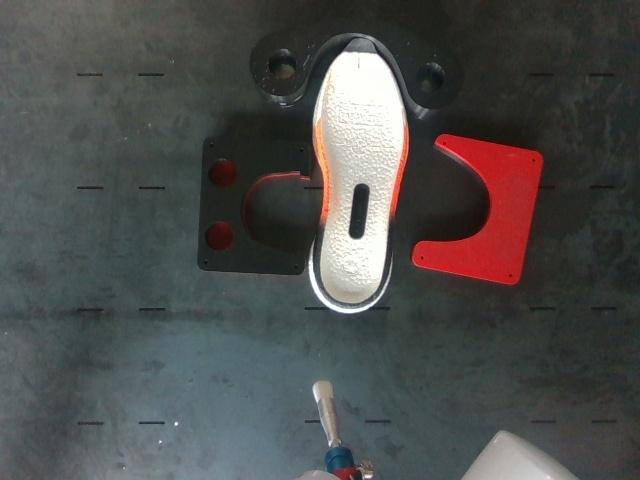shoes: (319, 39, 406, 306)
